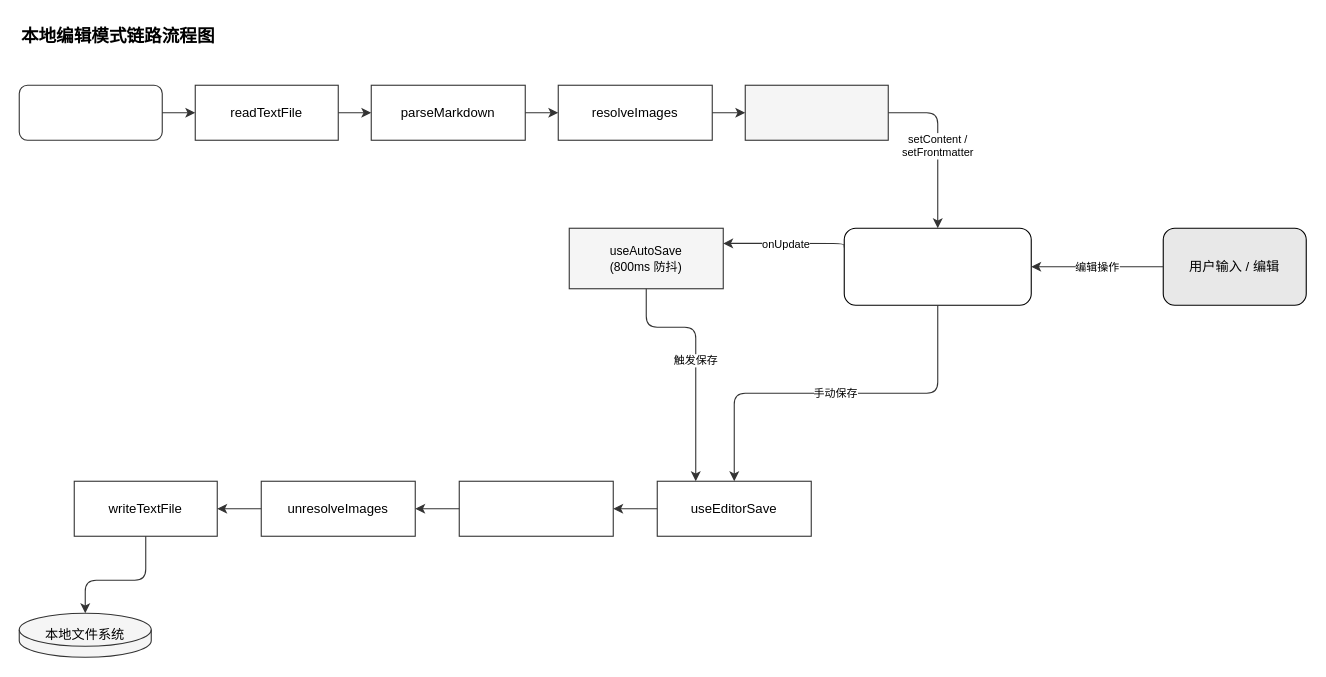
The diagram is 1326 pixels wide and 677 high, and some of its shapes have lost their labels. The shapes that lost their labels are listed below. From the top down, each one's centre as x and y in pixels, then its label:
[90,112]: 本地 Markdown 文件
[816,112]: useEditorStore
[937,266]: Tiptap Editor (ProseMirror)
[535,508]: stringifyMarkdown
